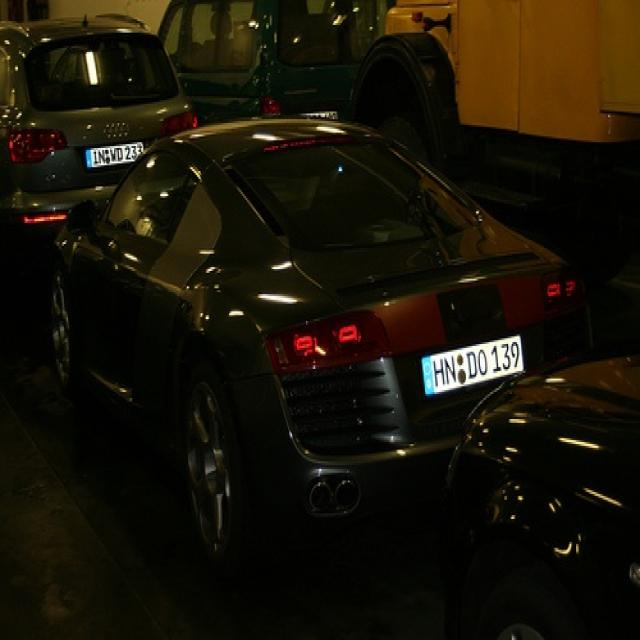Car: (86, 143, 469, 498), (0, 7, 187, 269), (454, 367, 640, 630), (160, 8, 432, 136)
